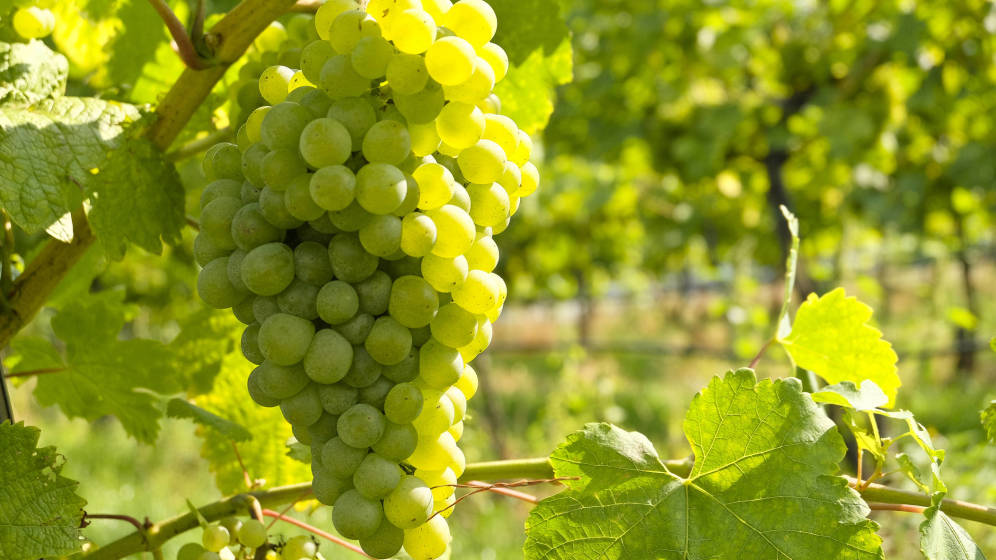Green grapes: (244, 10, 496, 540)
